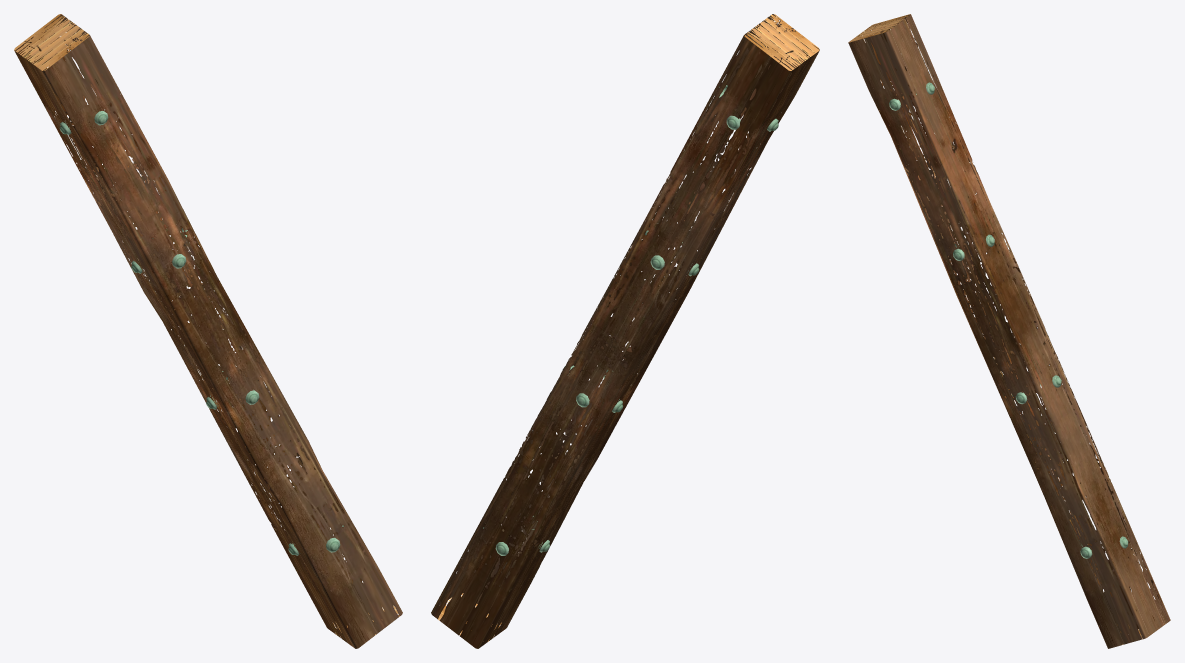
3 renders of one model, left to right at view 1: azimuth 30°, elevation 25°; view 2: azimuth 150°, elevation 25°; view 3: azimuth 330°, elevation 25°, orthographic. The views are drawn at different scales.
Parts seen in each view (by area): view 1: SM_BB_T4_Beam_Thin_Large_Steep_LOD0; view 2: SM_BB_T4_Beam_Thin_Large_Steep_LOD0; view 3: SM_BB_T4_Beam_Thin_Large_Steep_LOD0.
Boxes of the visible parts, left/top/right/bottom form: SM_BB_T4_Beam_Thin_Large_Steep_LOD0: left=14, top=14, right=402, bottom=648; SM_BB_T4_Beam_Thin_Large_Steep_LOD0: left=431, top=14, right=819, bottom=648; SM_BB_T4_Beam_Thin_Large_Steep_LOD0: left=848, top=14, right=1170, bottom=648.
Bounding box in the file's own units: 1.73 × 3.11 × 0.3031.
Materials: 2 (2 with a texture image).
